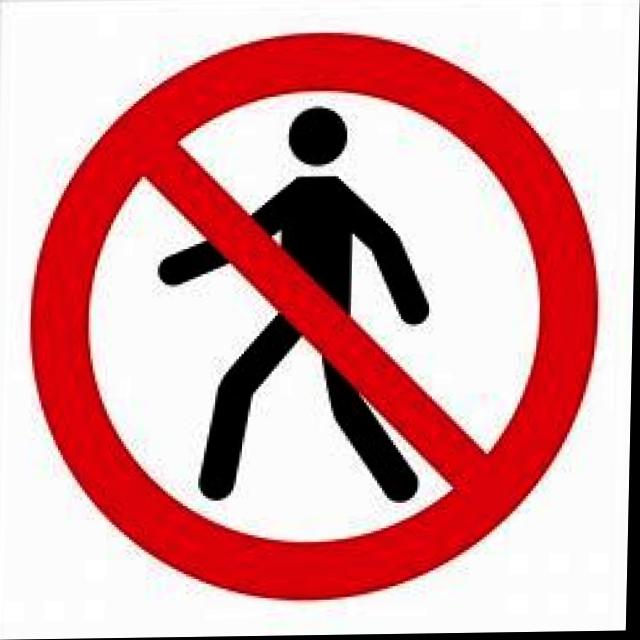PEDESTRIAN_PROHIBITED: (23, 32, 611, 610)
